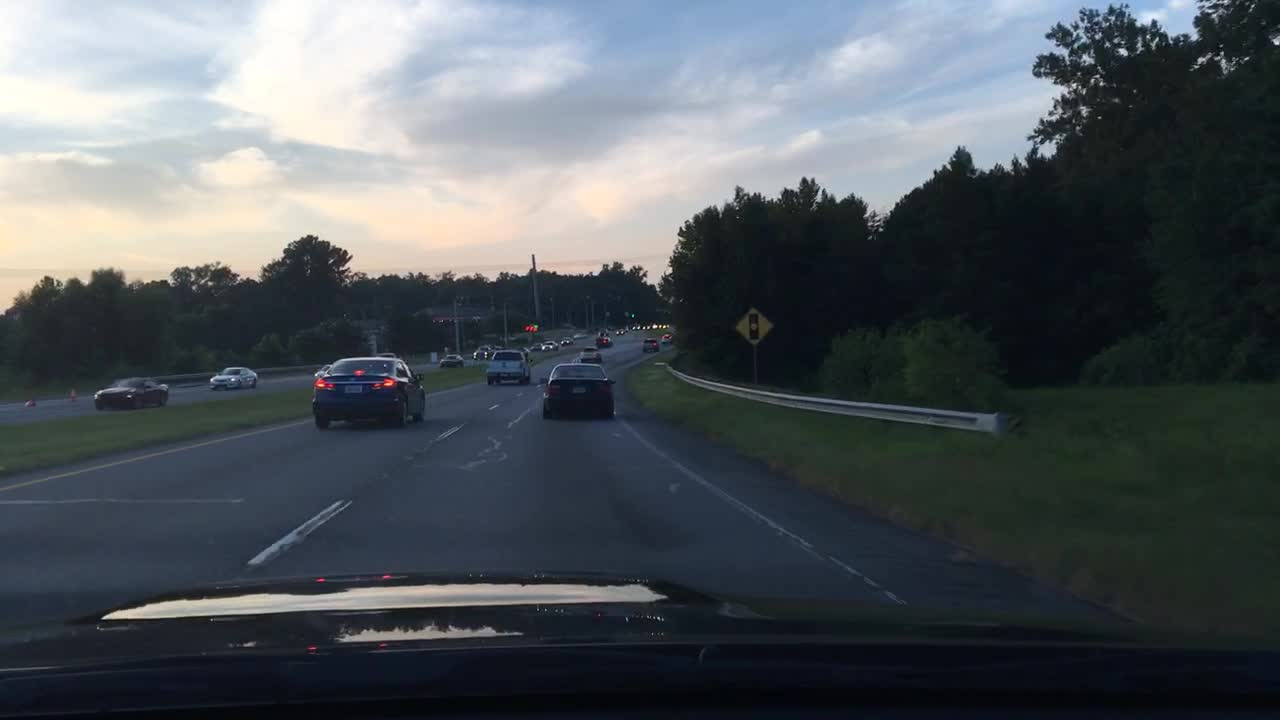car: (310, 351, 426, 429), (540, 362, 615, 421), (92, 375, 169, 410), (486, 346, 534, 385), (207, 364, 258, 390), (438, 351, 466, 369), (578, 345, 600, 362), (472, 344, 494, 359), (639, 335, 659, 351), (313, 362, 331, 379), (592, 335, 612, 347), (540, 340, 558, 352), (560, 335, 575, 345), (661, 332, 672, 344), (629, 322, 641, 331), (597, 326, 607, 336), (528, 343, 542, 350), (615, 326, 625, 335), (642, 323, 652, 331), (661, 321, 669, 329), (651, 322, 660, 329)
traffic sign: (734, 307, 773, 343)
